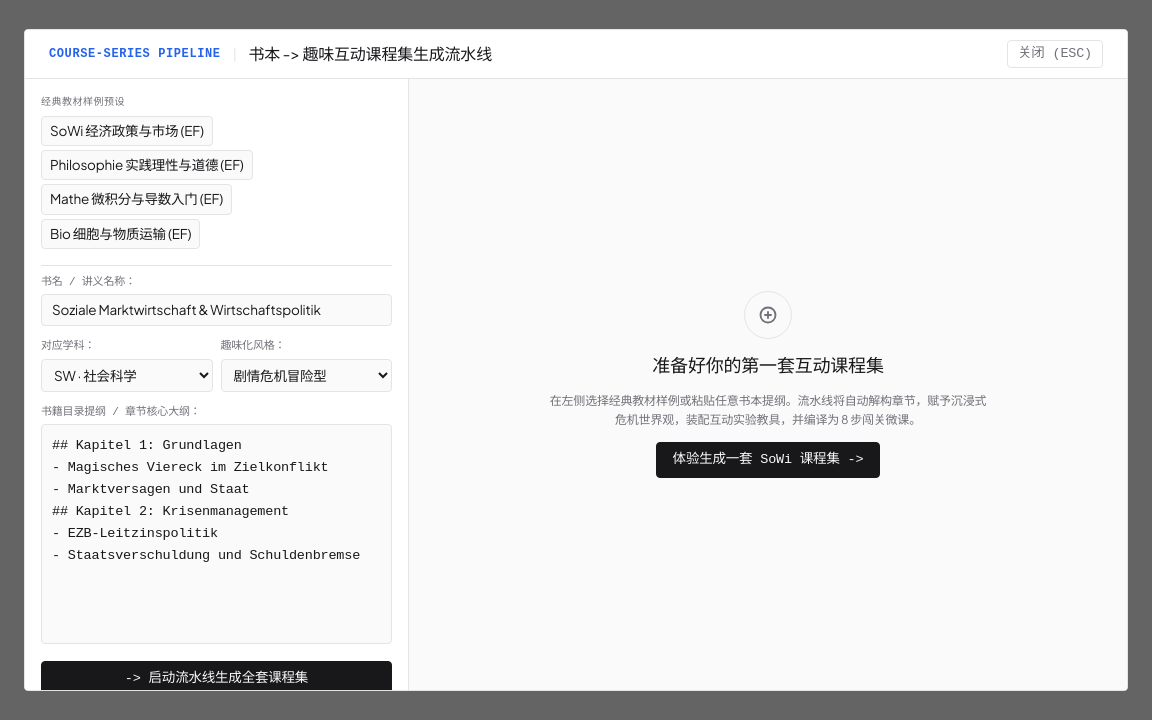
Test case: CoursePipelineModal (书本-课程集生成流水线工坊测试) › executes the pipeline and displays the resulting quest map and episodes
This screenshot has width=1152, height=720.
// 点击生成全套课程集
Click the button "-> 启动流水线生成全套课程集" at [216, 679], box [41, 661, 392, 697]
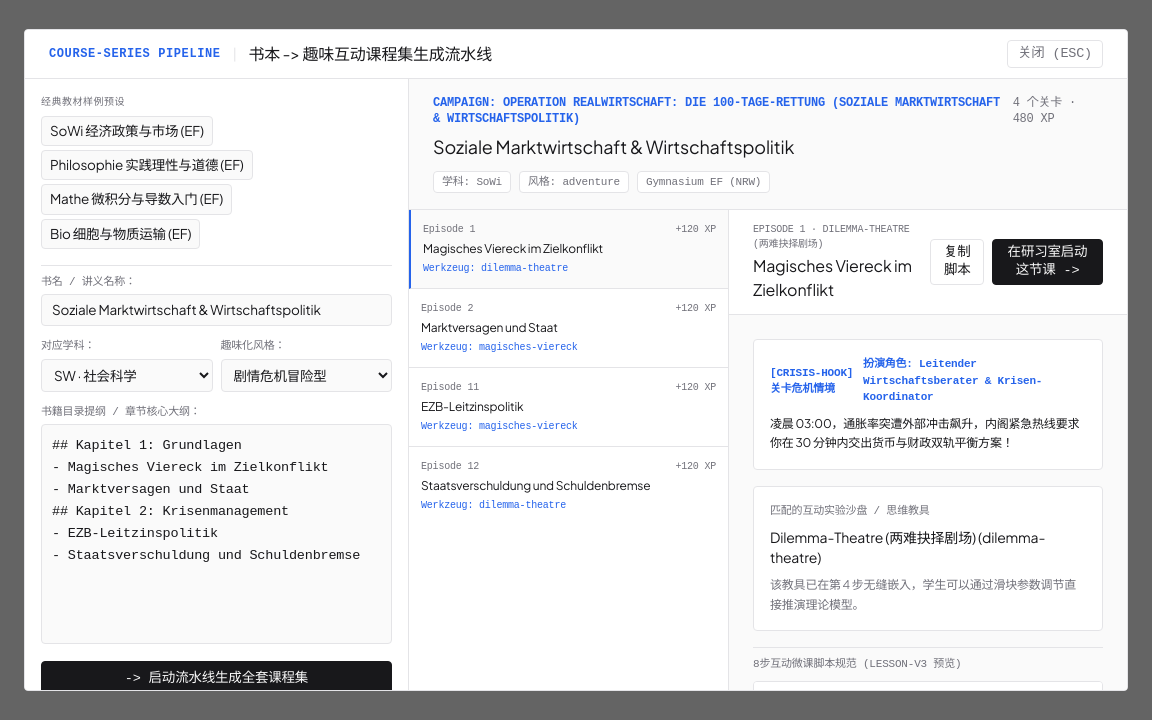
Expected: the text "Campaign:" is shown, [433, 96, 503, 110]
Expected: the text "Episode 1" is shown, [423, 222, 475, 237]
Expected: the text "[CRISIS-HOOK] 关卡危机情境" is shown, [770, 364, 863, 398]
